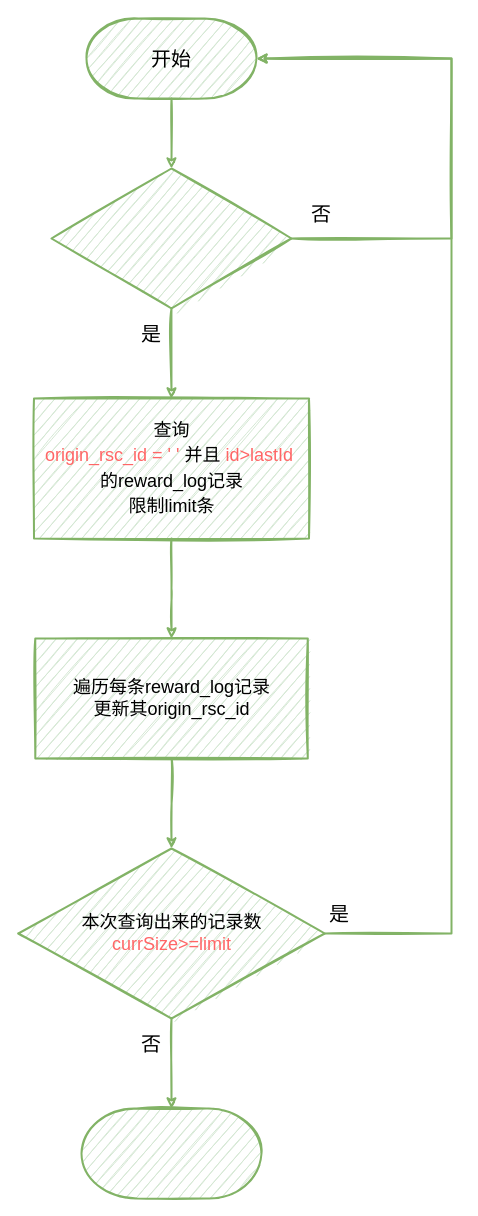
Image size: 478x1216. Some labels were removed from this diagram. Here are the shapes that lost their labels. From the top down, the centre of each, then its label:
the point at 171,238: 更新任务开关是否开启
the point at 171,1153: 结束
